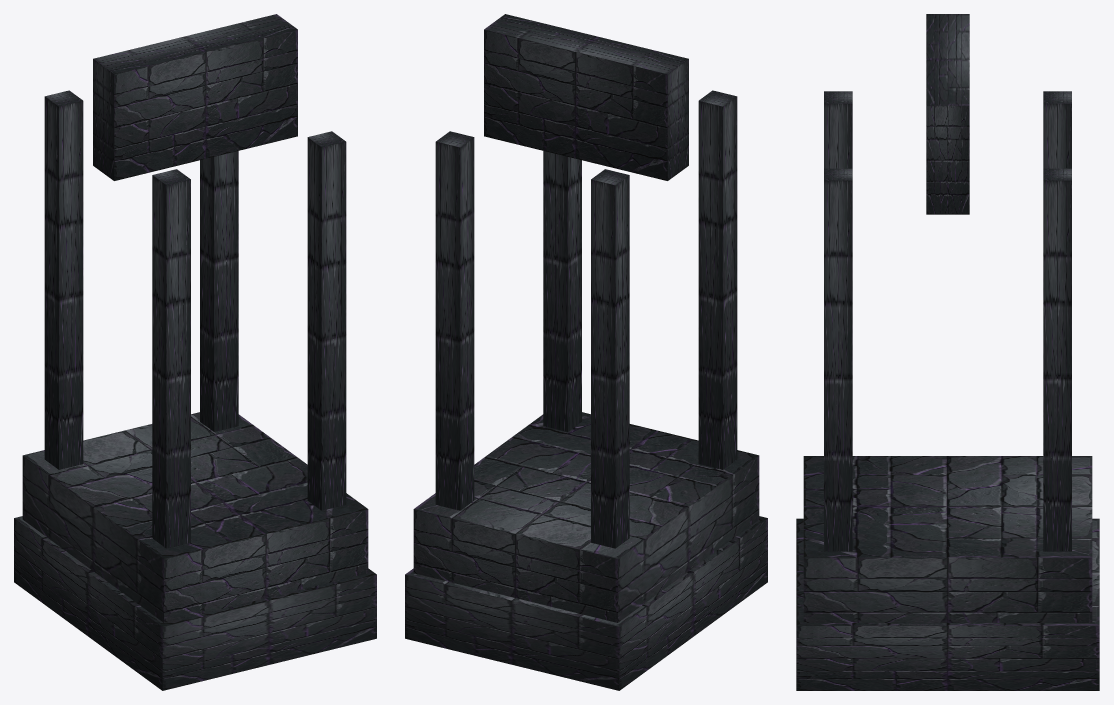
The model's file is dark_garden.obj.
The picture shows the model from 3 angles, left to right: view 1: azimuth 30°, elevation 25°; view 2: azimuth 150°, elevation 25°; view 3: azimuth 270°, elevation 25°; orthographic projection. The views are drawn at different scales.
Visible parts, largest first — view 1: building; view 2: building; view 3: building.
Boxes of the visible parts, bbox=[...] form: building: bbox=[14, 14, 376, 690]; building: bbox=[405, 14, 767, 690]; building: bbox=[796, 14, 1099, 690].
Size of the model in its own units: 2.62 by 6.62 by 3.15.
